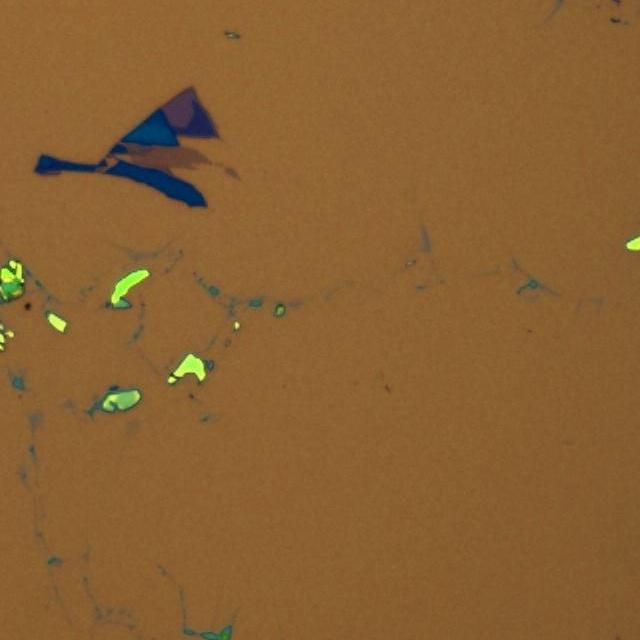monolayer-eWW4: (128, 143, 214, 171)
